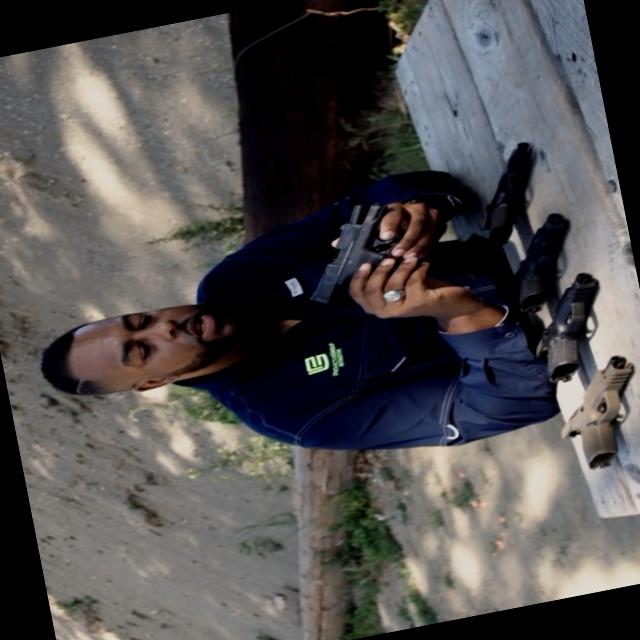handgun: (284, 176, 426, 316), (508, 264, 624, 392), (445, 132, 557, 258), (539, 341, 639, 482), (481, 203, 589, 324)
